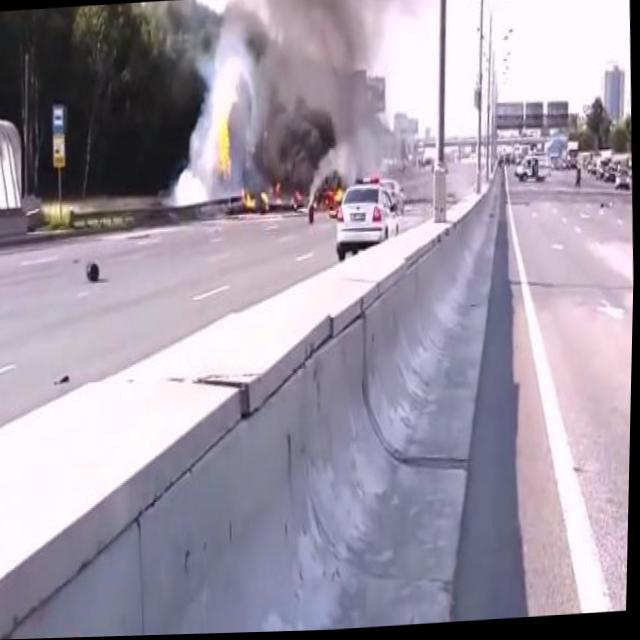fire: (215, 113, 235, 179), (239, 184, 271, 218), (317, 182, 343, 212)
